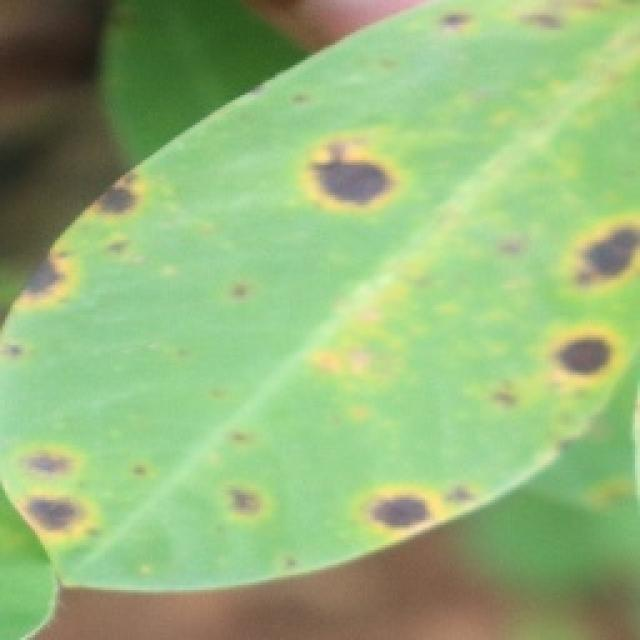Yellowish: (7, 0, 640, 597)
